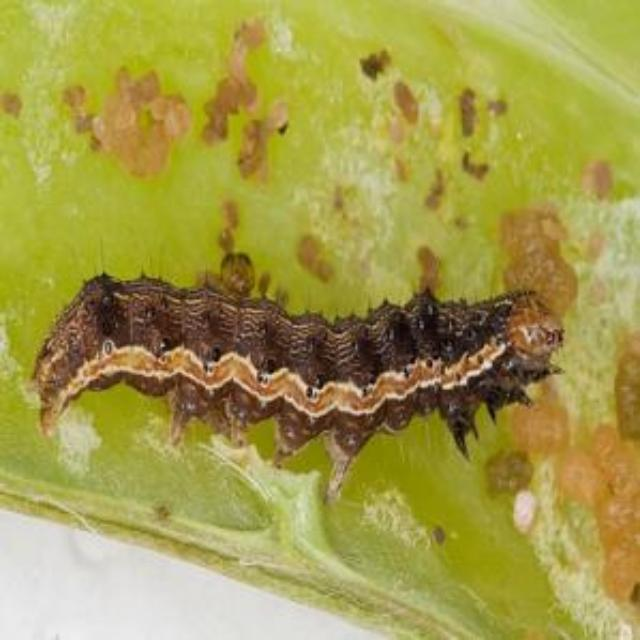Cotton bollworm: (29, 205, 584, 529)
